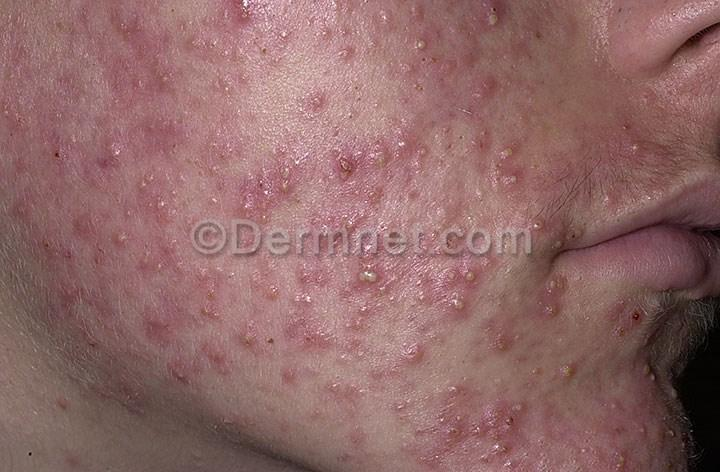Acne: (120, 270, 320, 401), (120, 9, 209, 250), (308, 0, 450, 106), (400, 372, 525, 455), (334, 219, 418, 303), (204, 165, 286, 238), (451, 253, 515, 328), (470, 140, 530, 208), (303, 134, 369, 195), (63, 129, 131, 184), (539, 278, 603, 330), (391, 313, 438, 374), (203, 0, 266, 45), (464, 0, 520, 42)
